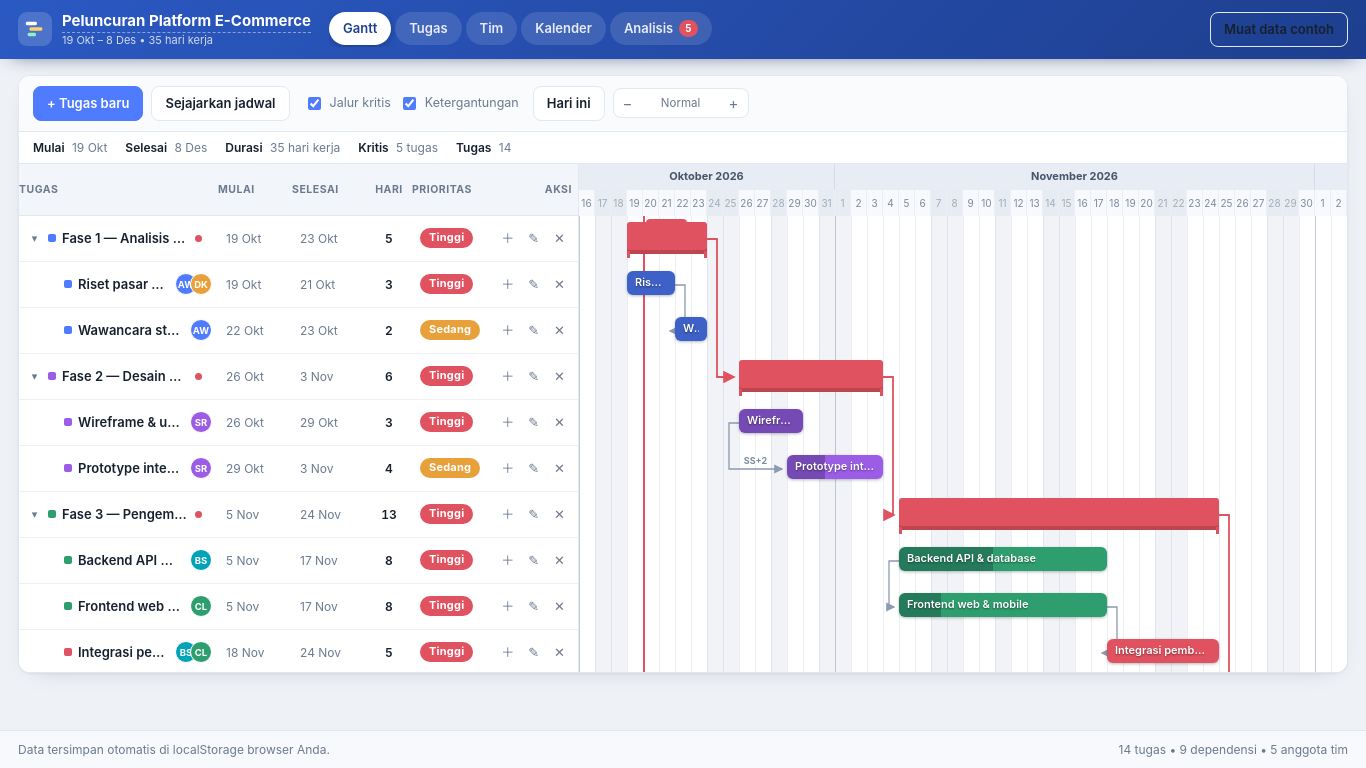
it: Aplikasi utama › menampilkan jalur kritis dan diagram PERT pada tab Analisis
Click the button "Analisis 5".
click(661, 28)  # box [610,12,712,45]
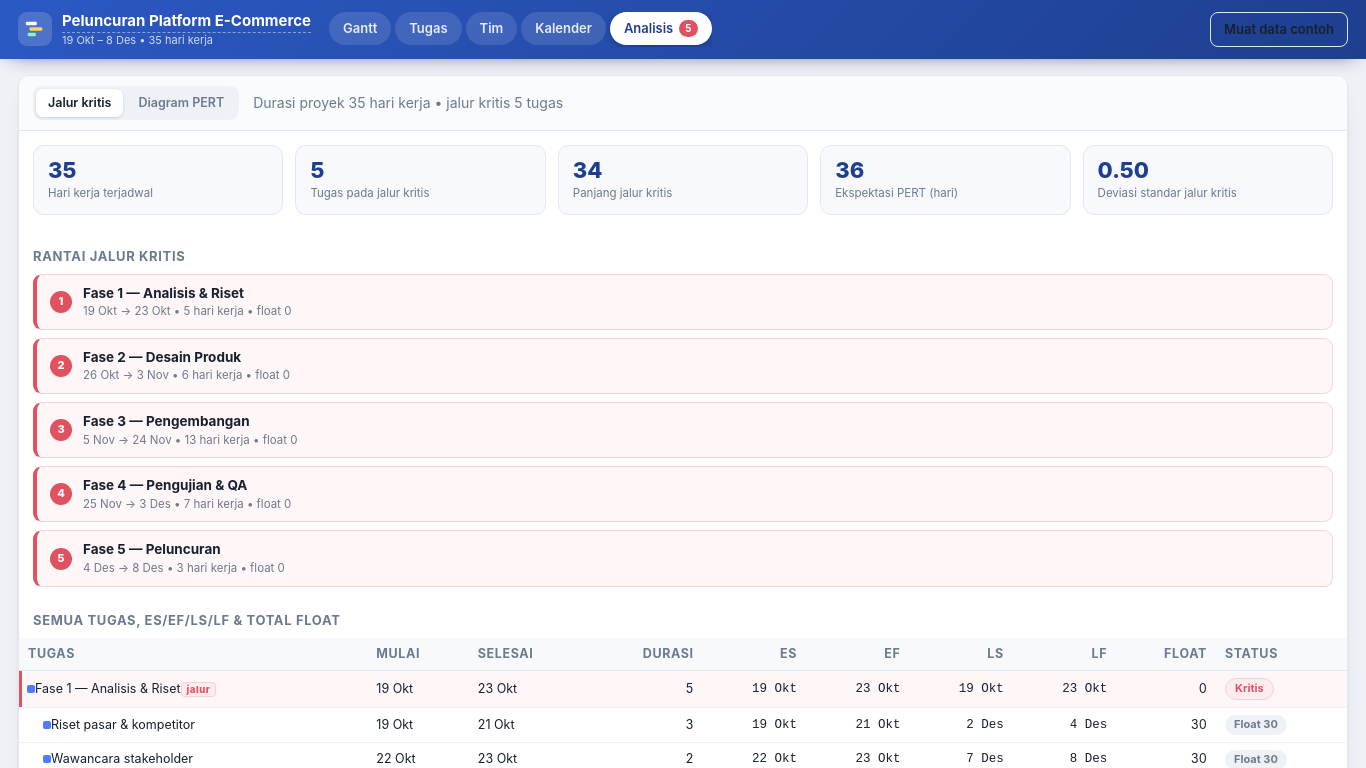
expect the heading "Rantai jalur kritis" is shown: met, box [33,248,185,264]
expect the heading "Semua tugas, ES/EF/LS/LF & total float" is shown: met, box [33,612,340,628]
expect the text "Ekspektasi PERT (hari)" is shown: met, box [835,186,958,200]
Click the button "Diagram PERT".
click(181, 103)  # box [126,89,236,117]
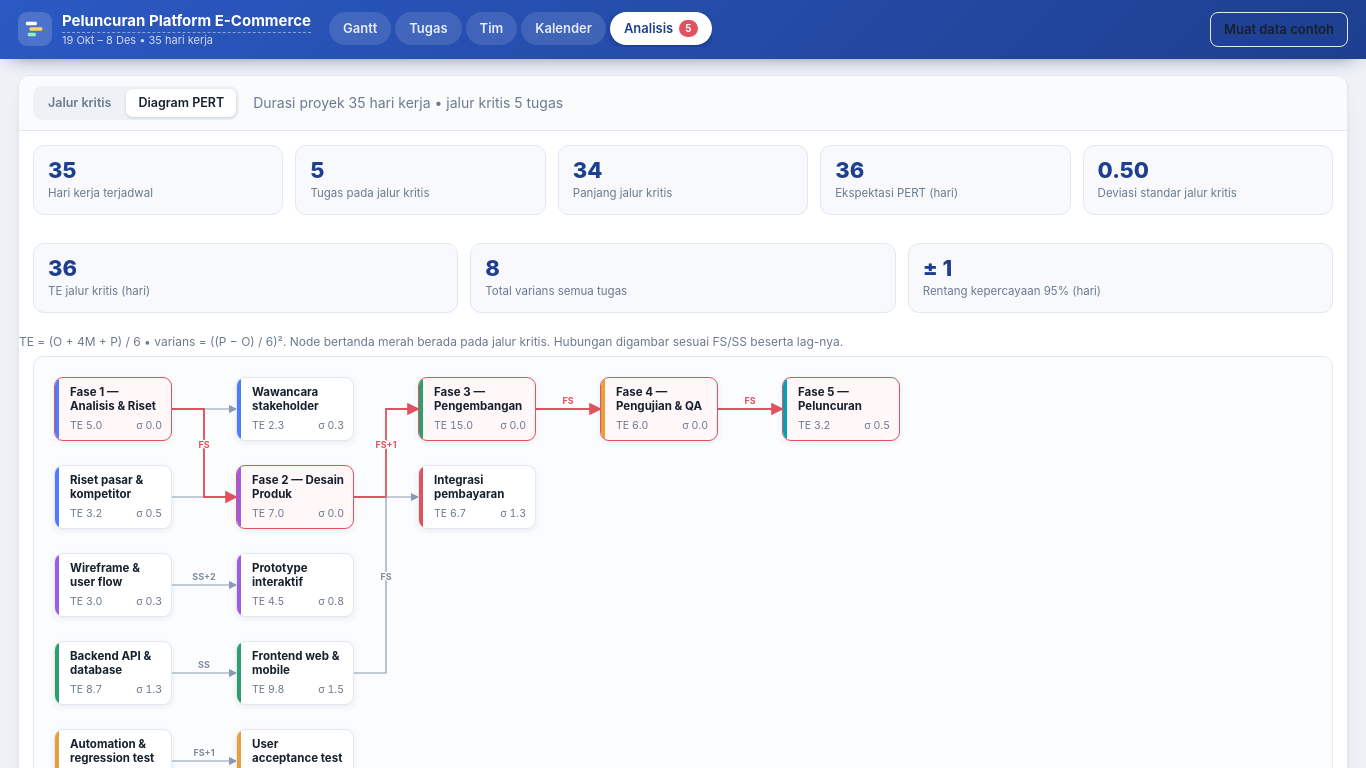
expect the text "TE jalur kritis (hari)" is shown: met, box [48,284,150,298]
